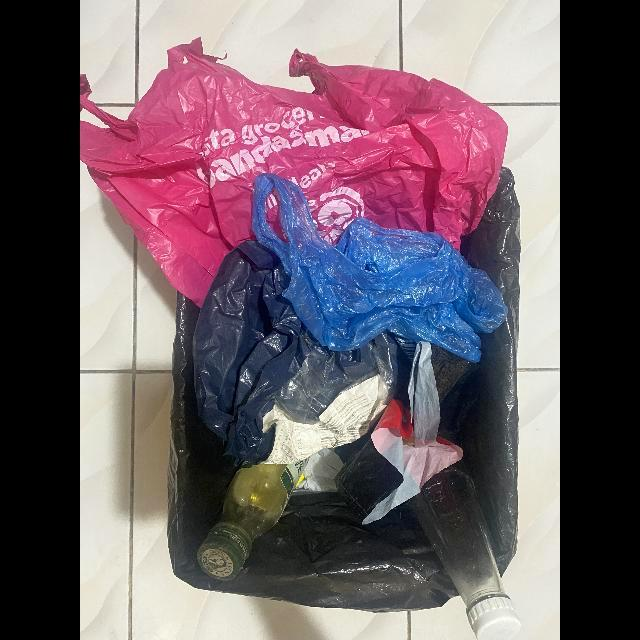glass_bottle: (408, 470, 520, 639), (197, 459, 309, 582)
plastic_bag: (80, 40, 508, 310), (190, 238, 398, 467), (252, 172, 504, 360)
